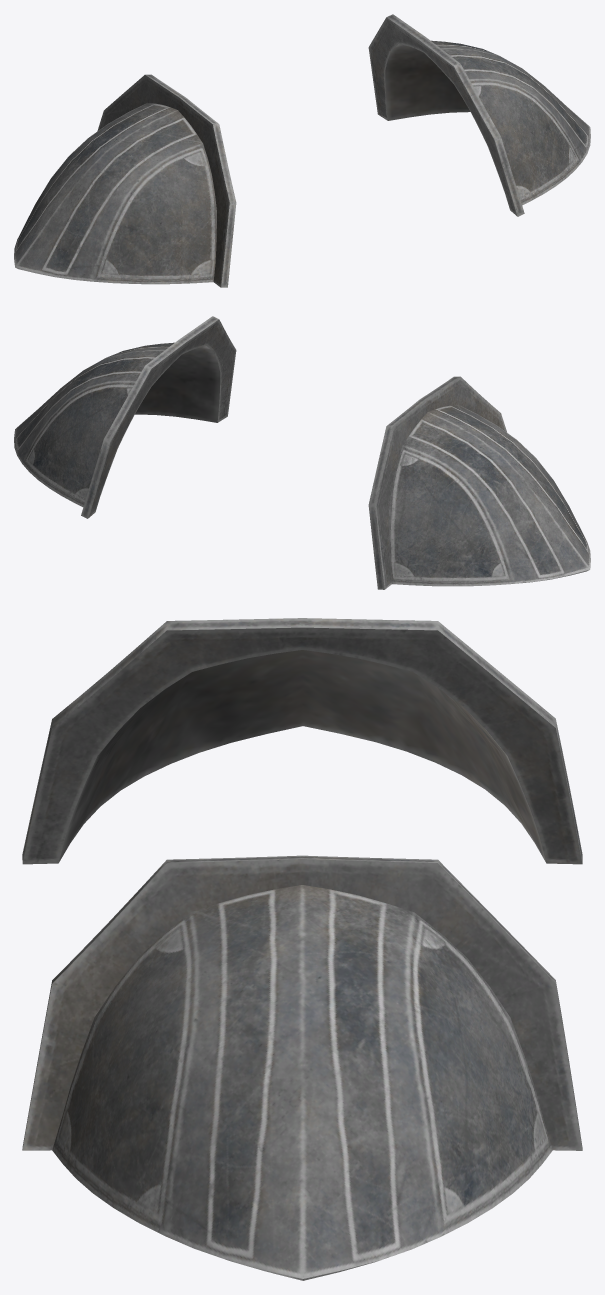
Rendered from sk_dwarf_erebor_pauldron_plate_med_a.fbx.
3 views of the same model, one above another, from view 1: azimuth 30°, elevation 25°; view 2: azimuth 150°, elevation 25°; view 3: azimuth 270°, elevation 25° (orthographic). The views are drawn at different scales.
Visible parts, largest first — view 1: sk_dwarf_erebor_pauldron_plate_med_a; view 2: sk_dwarf_erebor_pauldron_plate_med_a; view 3: sk_dwarf_erebor_pauldron_plate_med_a.
Boxes of the visible parts, x1,y1,x2,y2 form: sk_dwarf_erebor_pauldron_plate_med_a: (14,14,590,287); sk_dwarf_erebor_pauldron_plate_med_a: (14,316,590,589); sk_dwarf_erebor_pauldron_plate_med_a: (22,618,582,1280).
Bounding box in the file's own units: 0.7229 × 0.3048 × 0.1608.
1 material, 1 textured.
